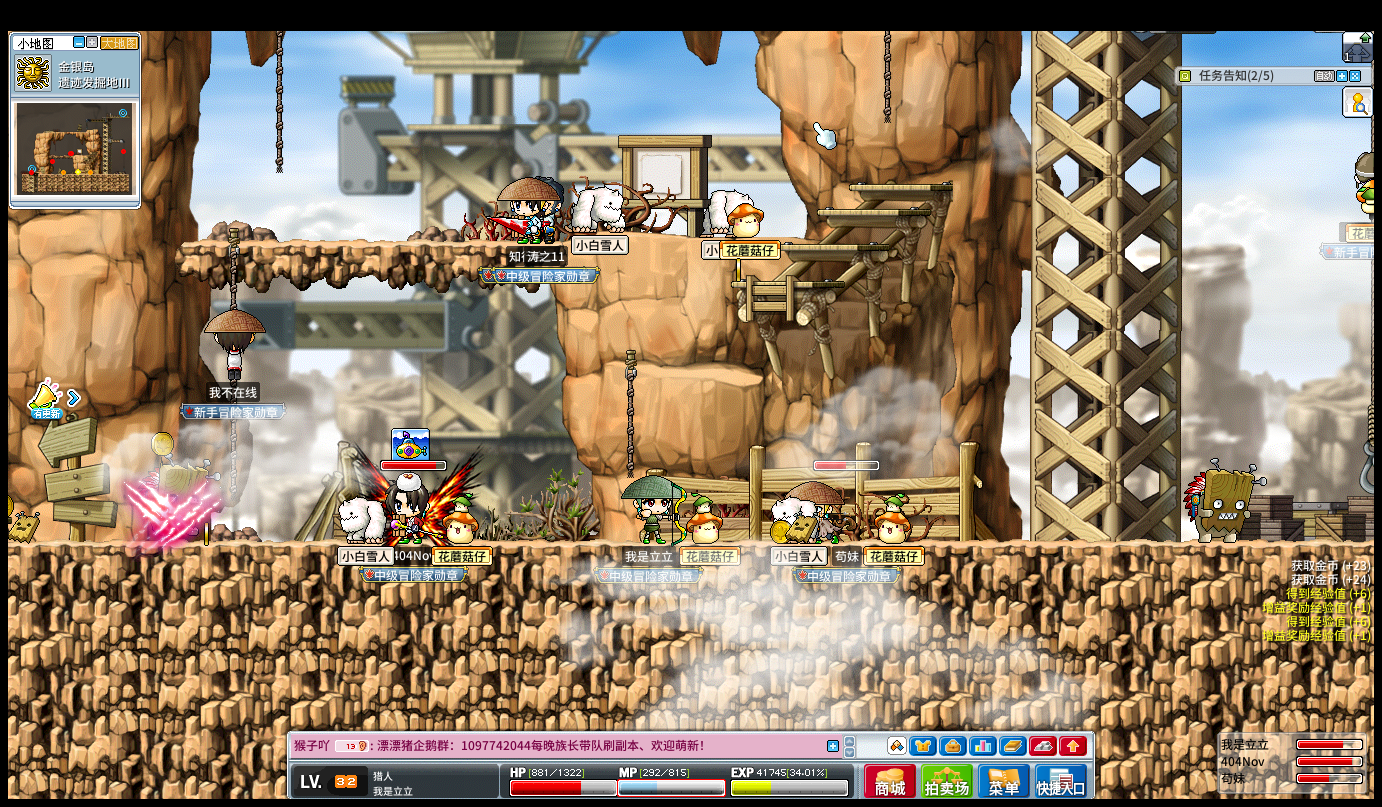floor: (173, 238, 541, 248), (658, 364, 764, 385), (677, 233, 812, 241), (726, 280, 842, 288), (774, 243, 886, 251), (815, 207, 926, 214), (848, 184, 950, 191)
monster: (1183, 461, 1262, 542), (141, 457, 216, 540)
rope: (625, 350, 639, 482), (623, 348, 636, 483), (274, 30, 285, 173), (226, 226, 238, 309), (880, 29, 890, 121)
